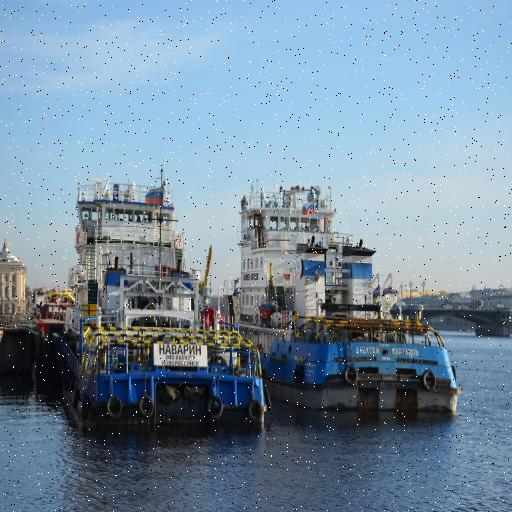tugboat: (54, 159, 272, 441), (229, 177, 465, 423)
